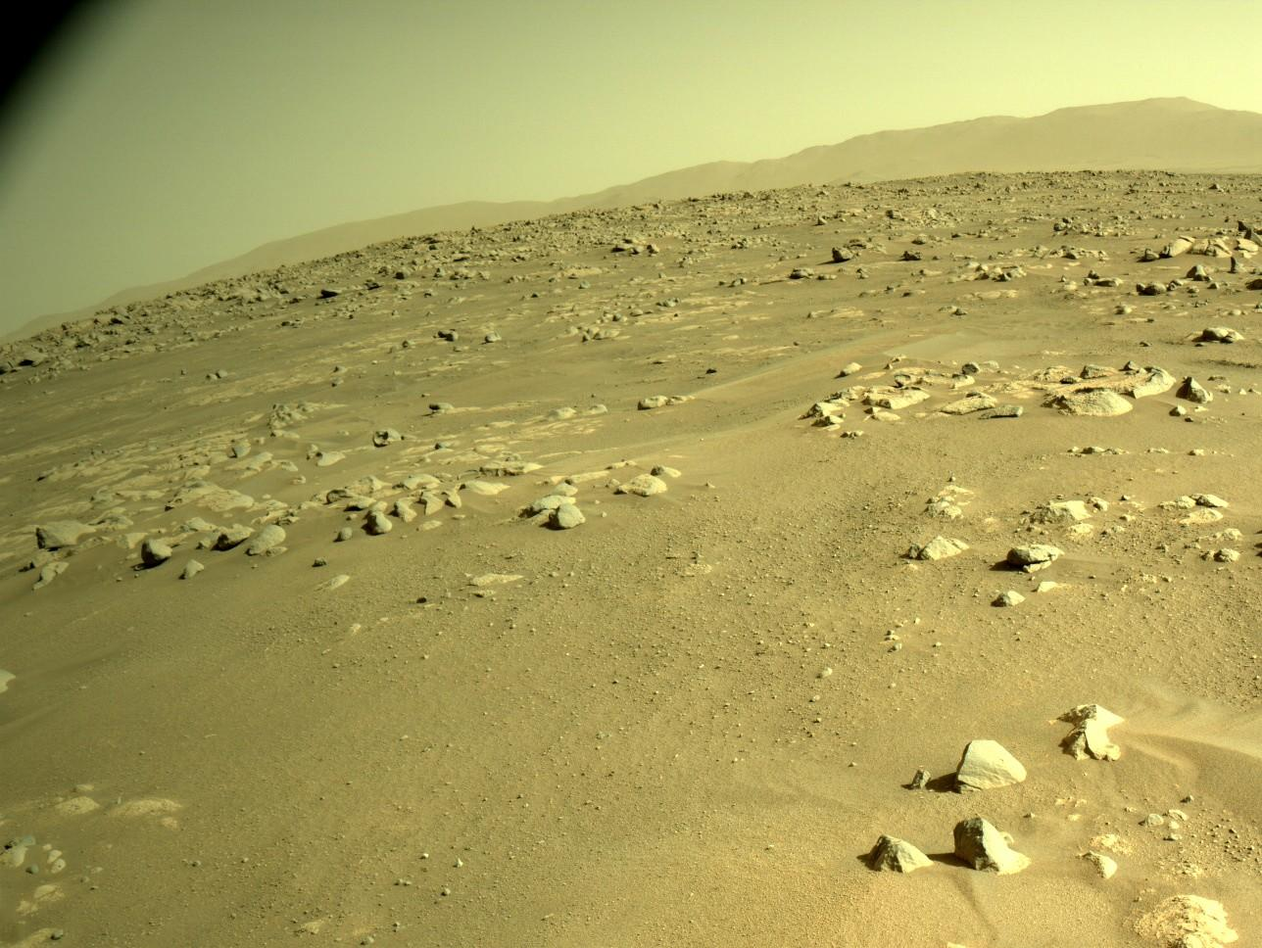bedrock: (3, 160, 1261, 609), (1059, 926, 1256, 947), (1198, 806, 1236, 835), (750, 457, 790, 477), (1257, 791, 1261, 891), (5, 810, 7, 861), (1256, 232, 1259, 253), (750, 478, 764, 482)
big_rock: (179, 82, 1259, 252), (1254, 239, 1255, 257), (1256, 219, 1257, 228)
sand: (980, 942, 1061, 947), (1255, 704, 1258, 791), (58, 603, 103, 608), (5, 766, 6, 807), (11, 609, 14, 614), (1253, 773, 1254, 774)
soil: (5, 481, 1260, 943), (12, 382, 193, 443), (1251, 178, 1256, 207), (1251, 891, 1253, 923), (1257, 897, 1258, 925), (1048, 885, 1052, 888)
